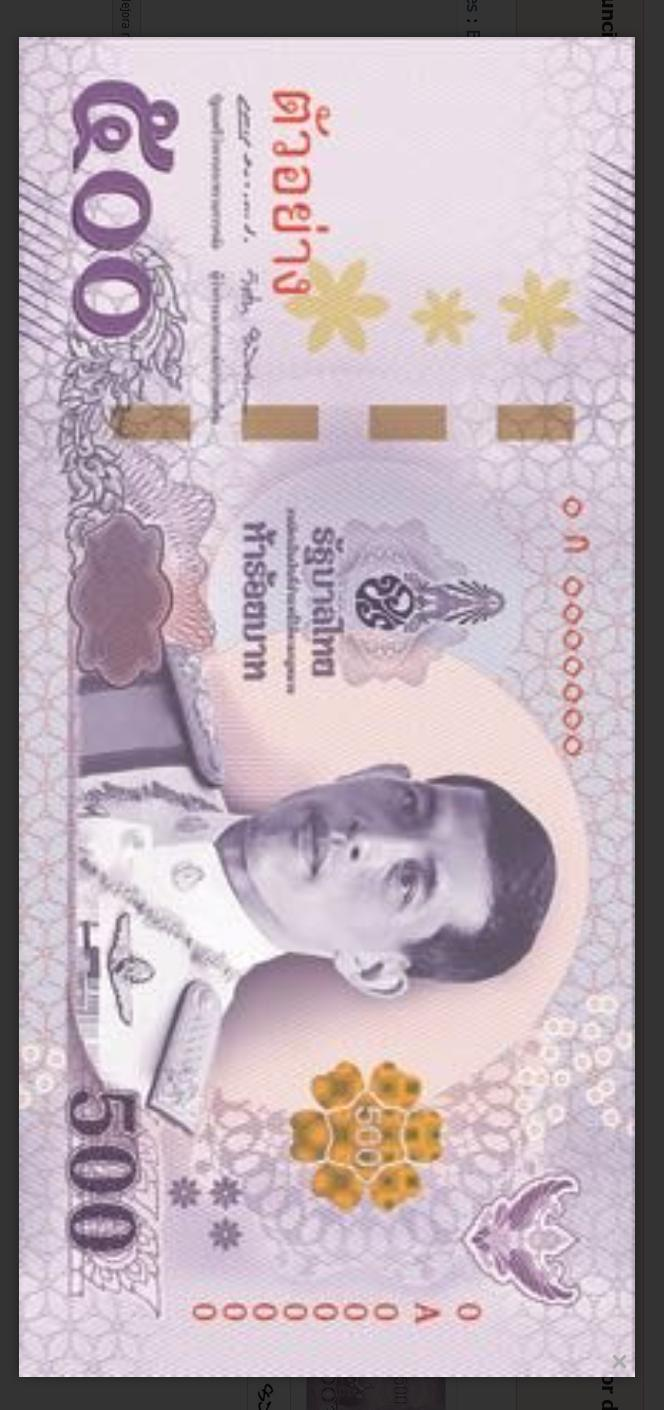500BahtTai: (22, 55, 638, 1374)
